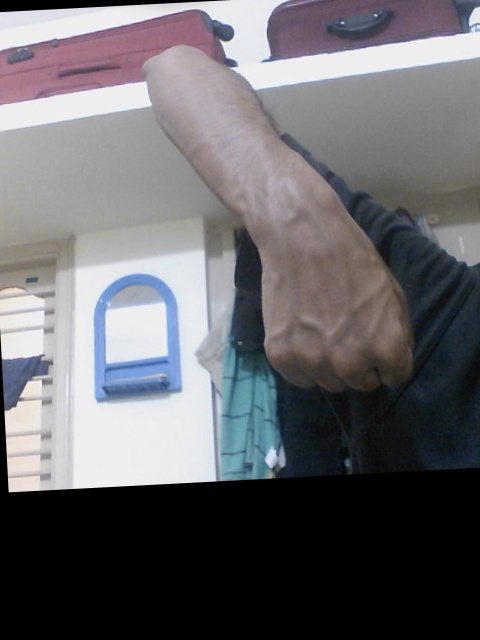hand: (257, 197, 417, 396)
